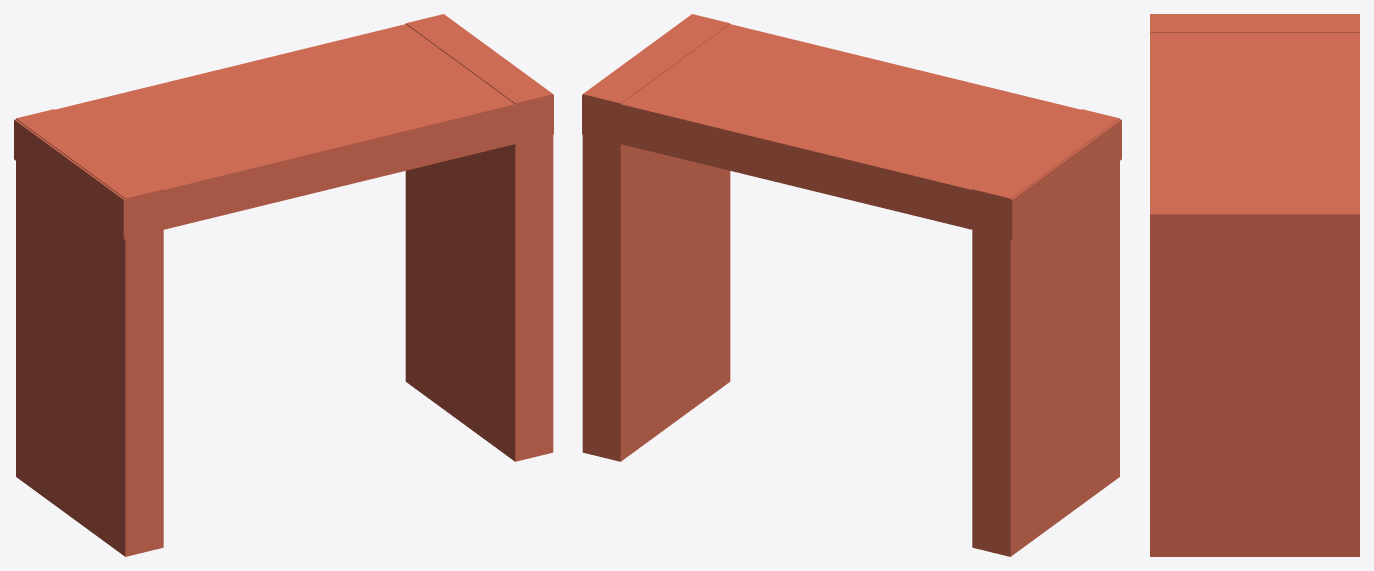
Rendered from rail-test-3.fbx.
The picture shows the model from 3 angles, left to right: view 1: azimuth 30°, elevation 25°; view 2: azimuth 150°, elevation 25°; view 3: azimuth 270°, elevation 25°; orthographic projection. The views are drawn at different scales.
Visible parts, largest first — view 1: Cube.004; view 2: Cube.004; view 3: Cube.004.
Part boxes in pixels (bbox=[...]): Cube.004: bbox=[14, 14, 553, 556]; Cube.004: bbox=[582, 14, 1121, 556]; Cube.004: bbox=[1150, 14, 1359, 556].
Bounding box in the file's own units: 251 × 200 × 111.
